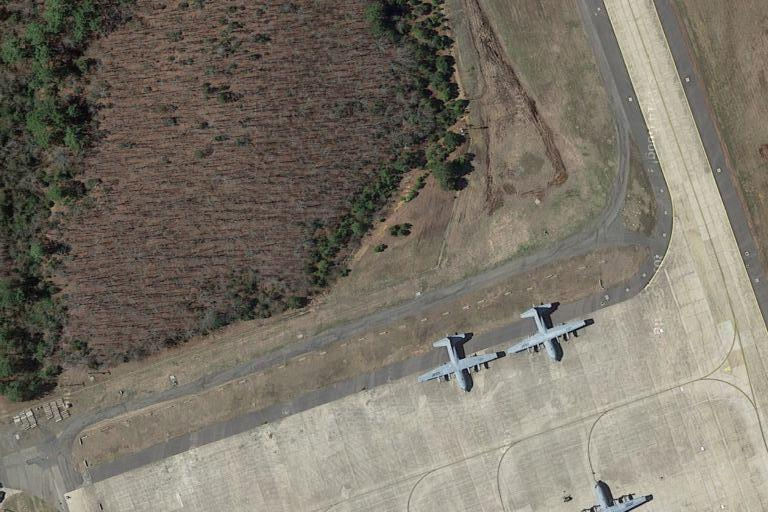C-130: (501, 295, 595, 365), (415, 328, 505, 395)
